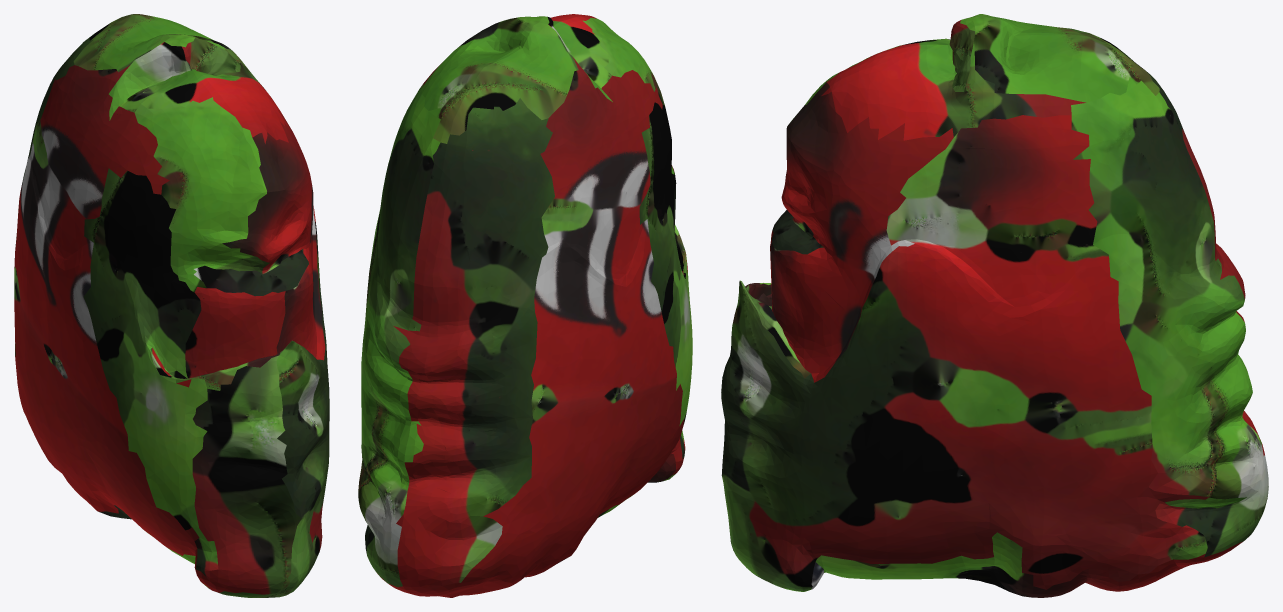
Rendered from sample.obj.
3 renders of one model, left to right at view 1: azimuth 30°, elevation 25°; view 2: azimuth 150°, elevation 25°; view 3: azimuth 270°, elevation 25°, orthographic. The views are drawn at different scales.
Size of the model in its own units: 0.4499 by 1 by 0.8966.
